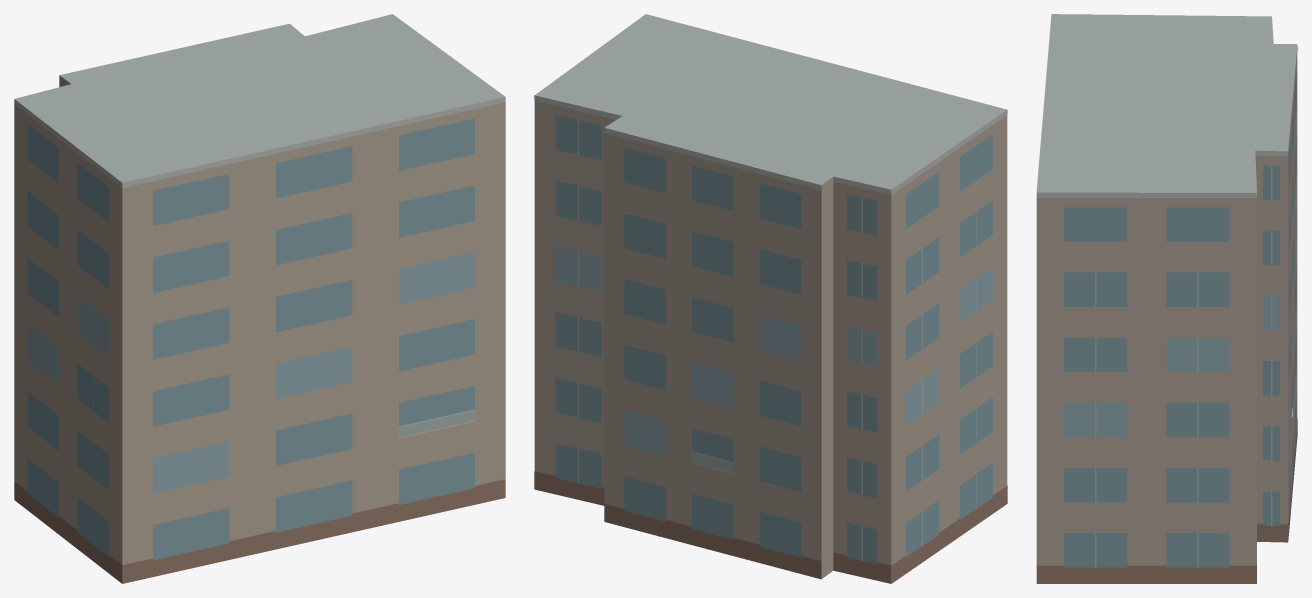
Rendered from survey-upis-32569168.glb.
The picture shows the model from 3 angles, left to right: view 1: azimuth 30°, elevation 25°; view 2: azimuth 150°, elevation 25°; view 3: azimuth 270°, elevation 25°; orthographic projection. The views are drawn at different scales.
Parts seen in each view (by area): view 1: survey-upis-32569168.tmp; view 2: survey-upis-32569168.tmp; view 3: survey-upis-32569168.tmp.
Boxes of the visible parts, box(x1,y1,x2,y2) form: survey-upis-32569168.tmp: box(14, 14, 505, 583); survey-upis-32569168.tmp: box(534, 14, 1007, 583); survey-upis-32569168.tmp: box(1036, 14, 1297, 583).
Size of the model in its own units: 17.96 by 18.3 by 11.08.
